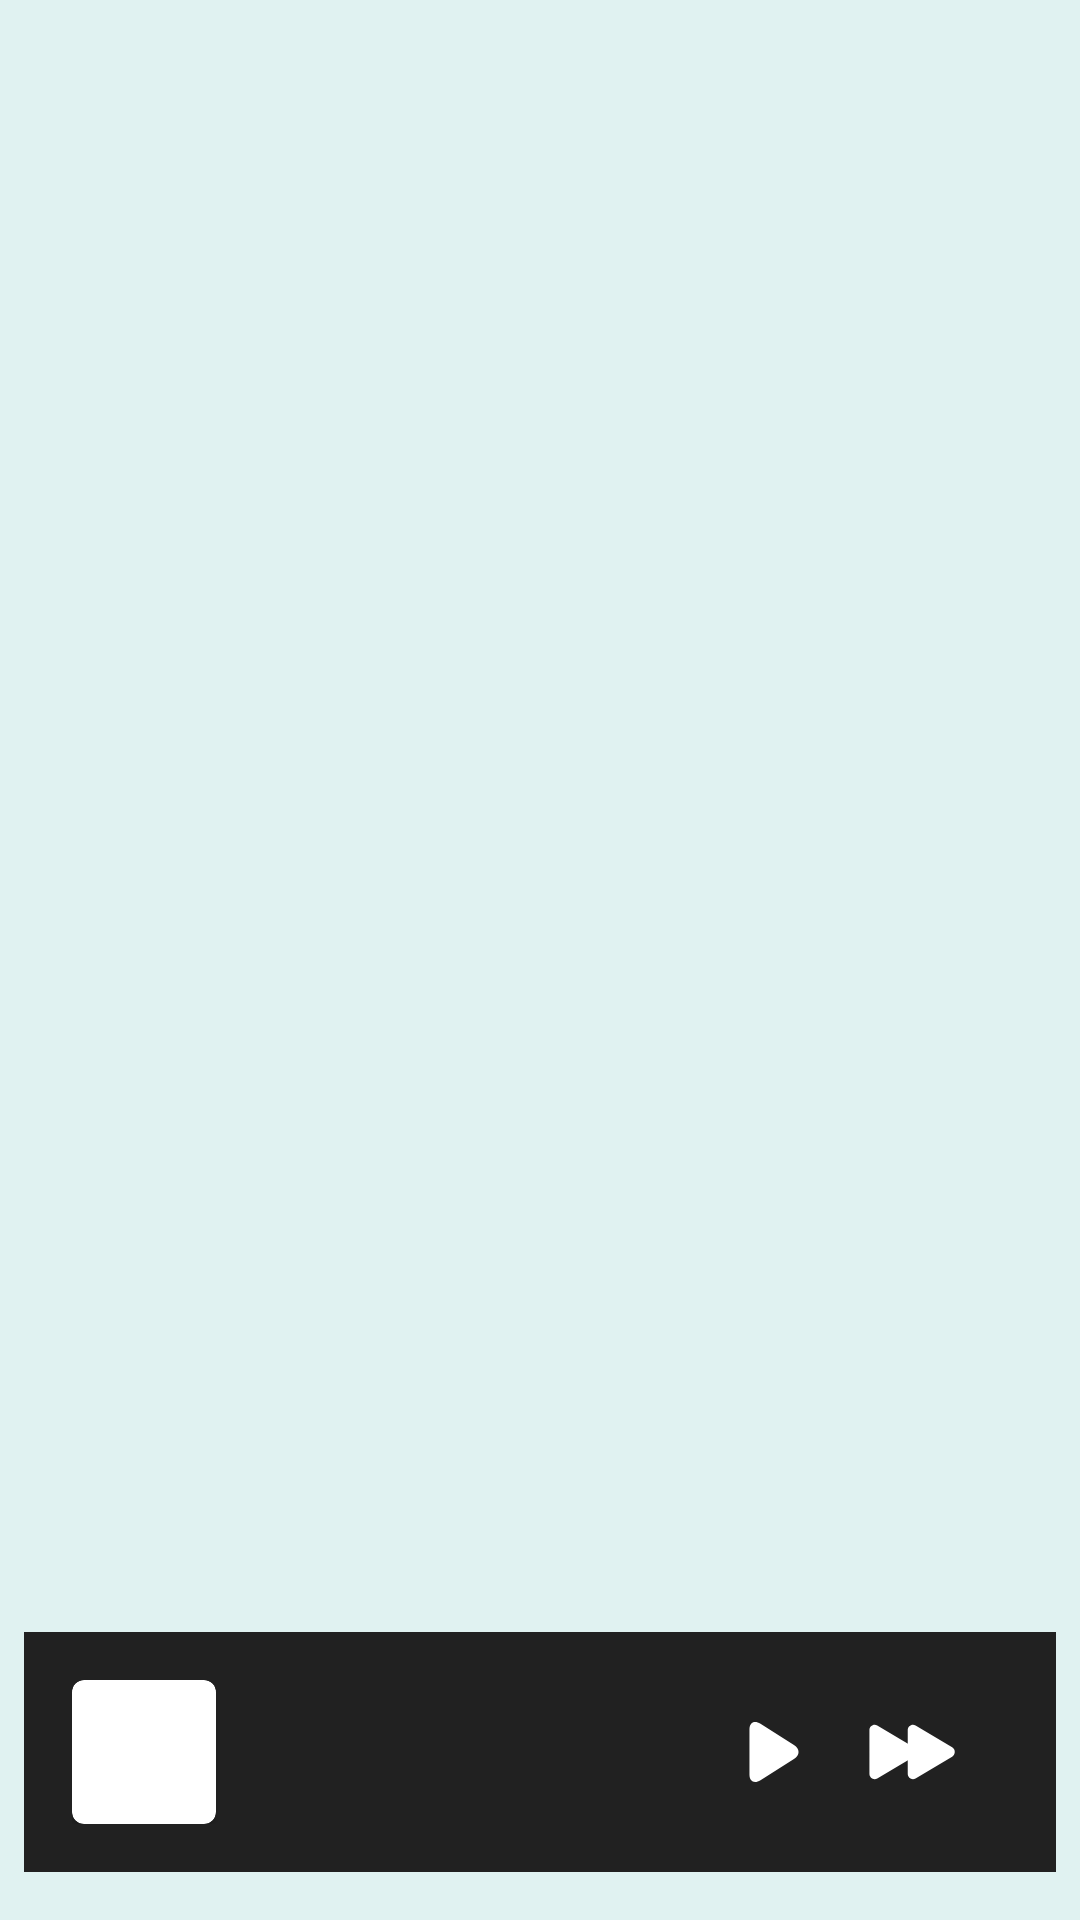

Point at icon controls on the screen. Image size 1080w x 1920h, points as (x,y).
next: (912,1752)
play: (774,1752)
